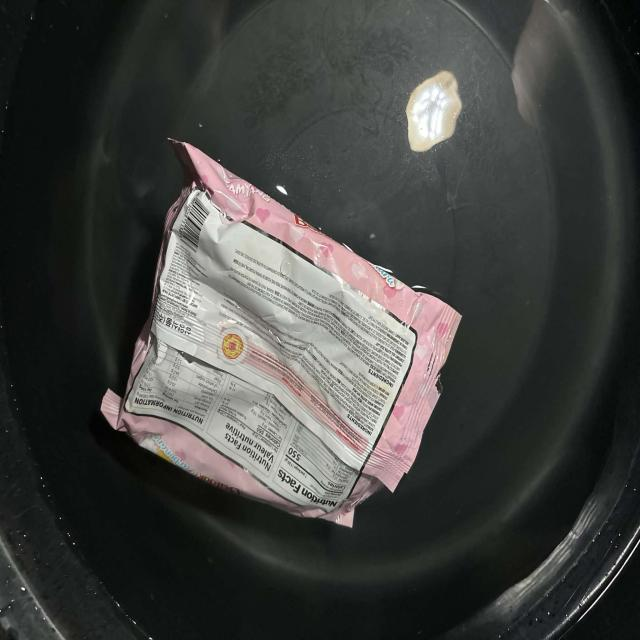Plastic Wrapper: (101, 140, 461, 526)
